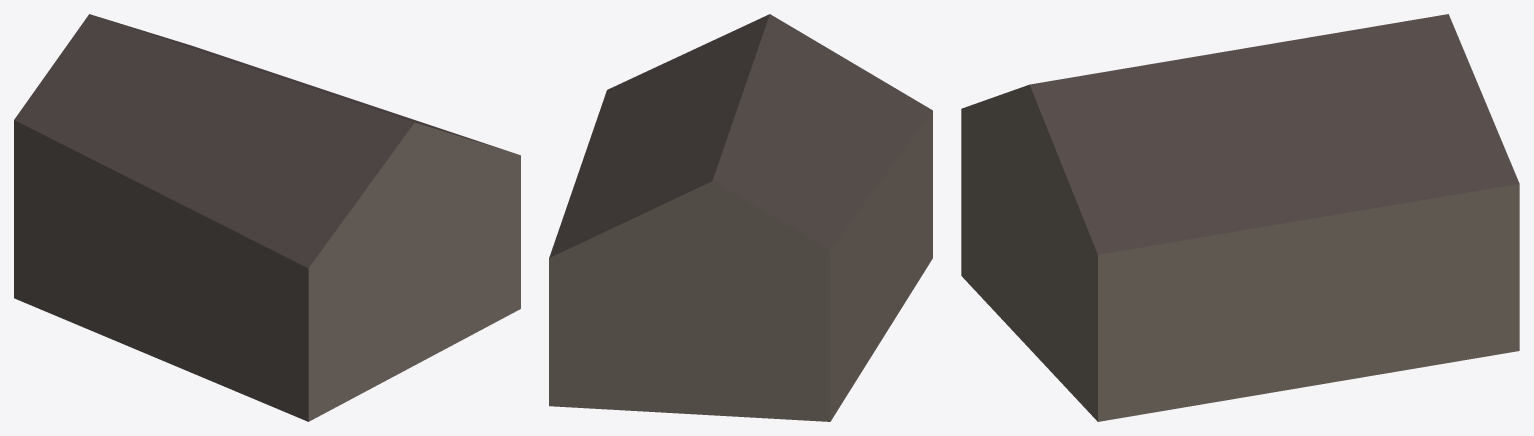
The picture shows the model from 3 angles, left to right: view 1: azimuth 30°, elevation 25°; view 2: azimuth 150°, elevation 25°; view 3: azimuth 270°, elevation 25°; orthographic projection. The views are drawn at different scales.
Parts seen in each view (by area): view 1: HP-w1198842227; view 2: HP-w1198842227; view 3: HP-w1198842227.
Part boxes in pixels (x1,y1,x2,y2): HP-w1198842227: [14, 14, 520, 421]; HP-w1198842227: [549, 14, 932, 421]; HP-w1198842227: [961, 14, 1519, 421].
Size of the model in its own units: 15.1 by 9.49 by 18.17.
